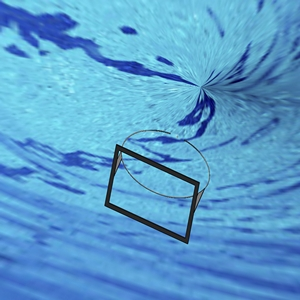circle: (103, 127, 212, 244)
